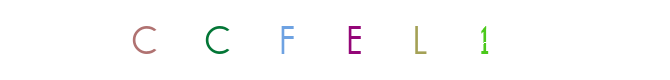1: (444, 0, 524, 80)
C: (175, 0, 255, 80), (231, 0, 311, 80)
E: (295, 0, 375, 80)
F: (239, 0, 319, 80)
L: (313, 0, 393, 80)
